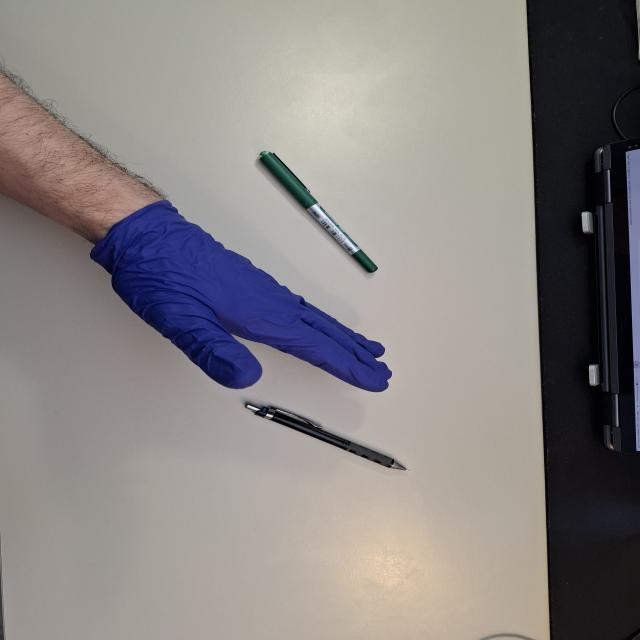glove_on: (85, 198, 395, 395)
